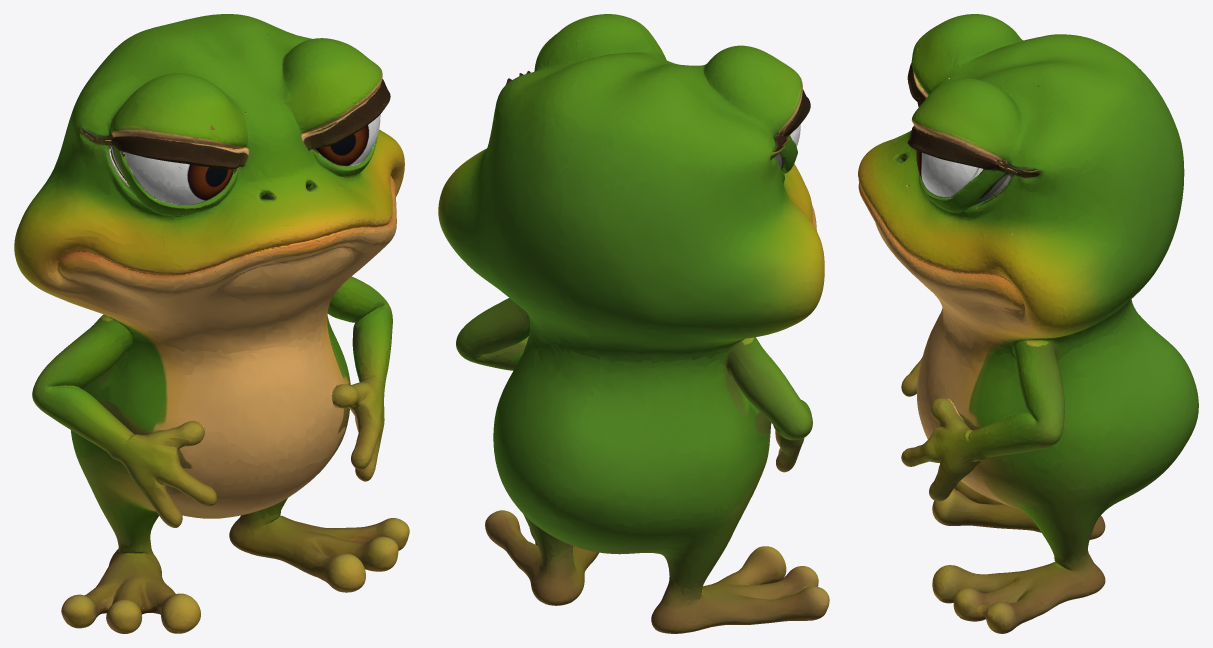
The model's file is C_remeshed.glb.
3 views of the same model, side by side, from view 1: azimuth 30°, elevation 25°; view 2: azimuth 150°, elevation 25°; view 3: azimuth 270°, elevation 25° (orthographic). The views are drawn at different scales.
Parts seen in each view (by area): view 1: output_unwrapped; view 2: output_unwrapped; view 3: output_unwrapped.
Part boxes in pixels (x1,y1,x2,y2): output_unwrapped: (14, 14, 409, 633); output_unwrapped: (438, 14, 829, 633); output_unwrapped: (858, 14, 1198, 633).
Bounding box in the file's own units: 1.4 × 1.9 × 1.15.
1 material, 1 textured.
